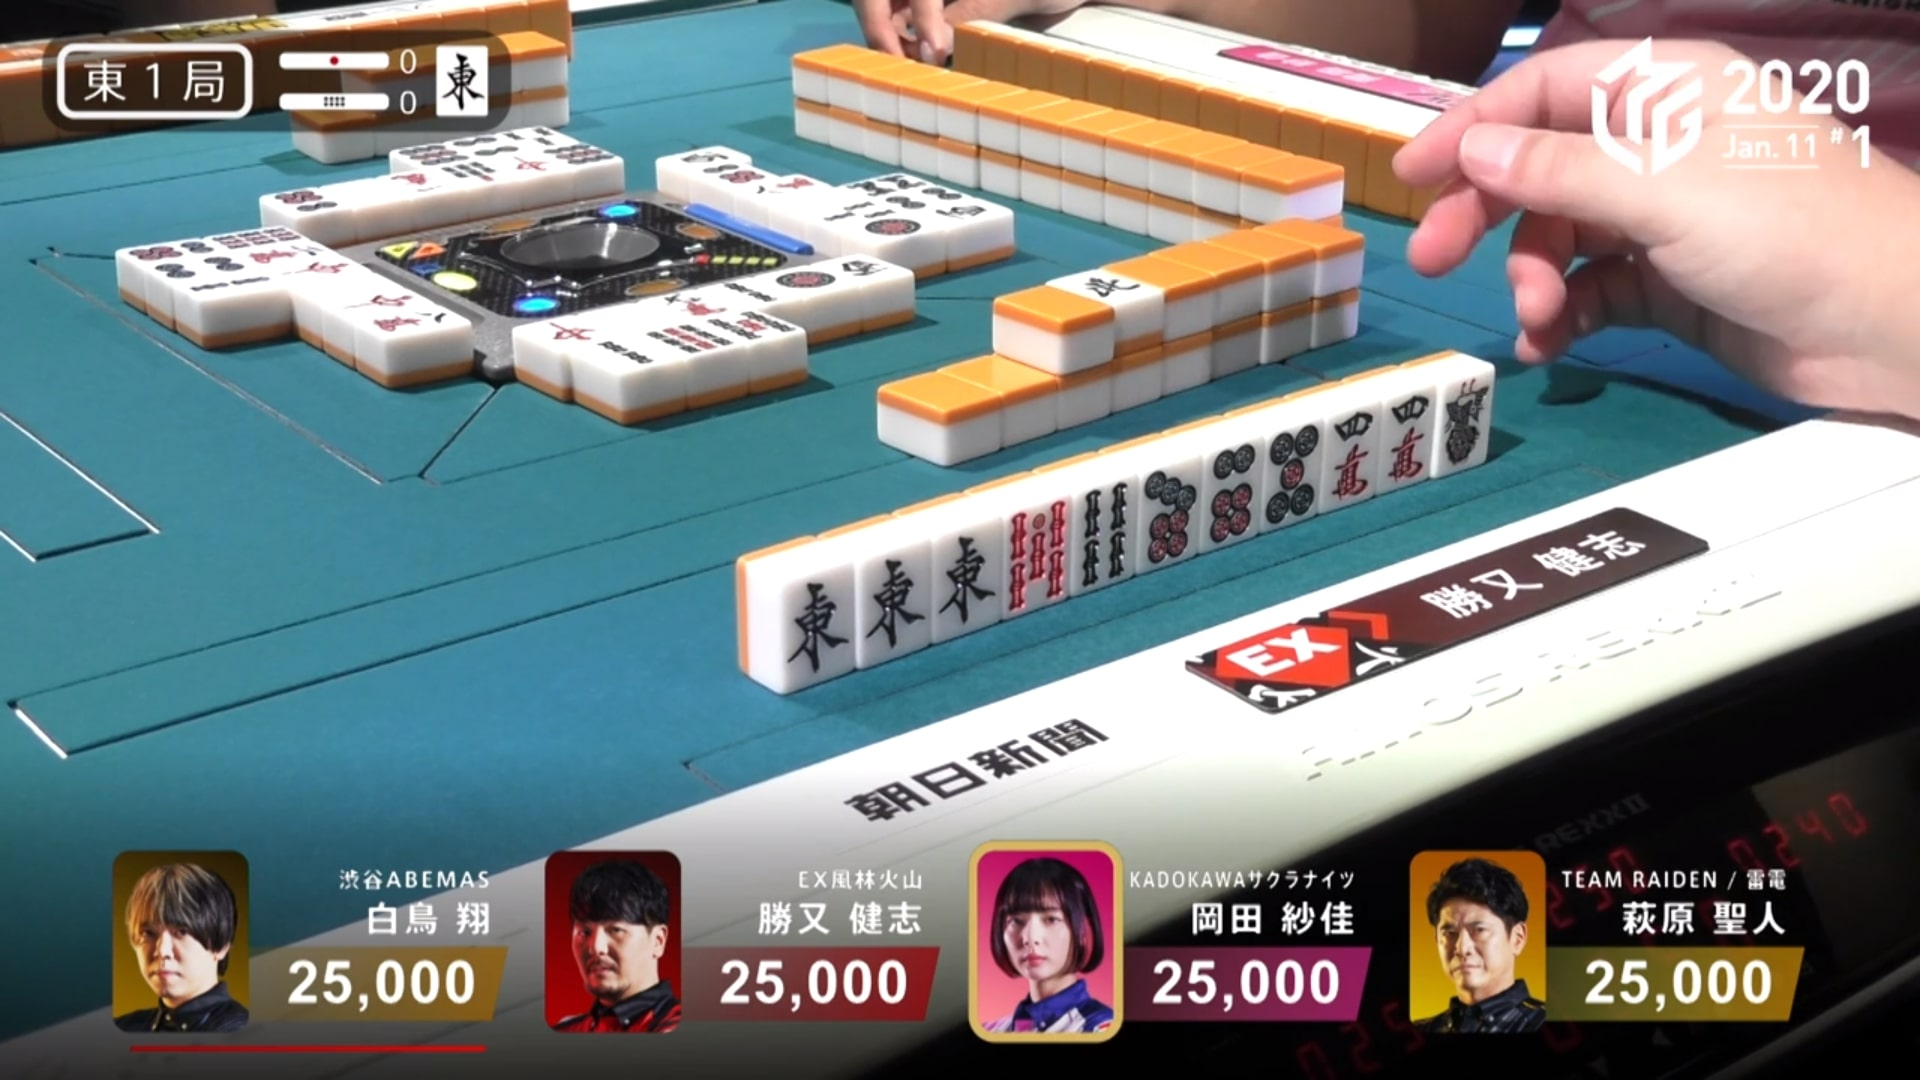1s: (1433, 378, 1493, 477)
4m: (1325, 402, 1379, 514), (1378, 385, 1427, 484)
4s: (1073, 480, 1130, 585)
5p: (1265, 419, 1317, 529)
5sr: (1001, 501, 1069, 608)
6p: (1203, 438, 1261, 546)
7p: (1135, 455, 1196, 570)
hand_ton_1: (50, 38, 272, 119)
round_0: (276, 84, 415, 120)
team_exfurinkazan: (1182, 589, 1458, 717)
ton: (770, 567, 857, 680), (935, 522, 1004, 628), (862, 546, 927, 653)
